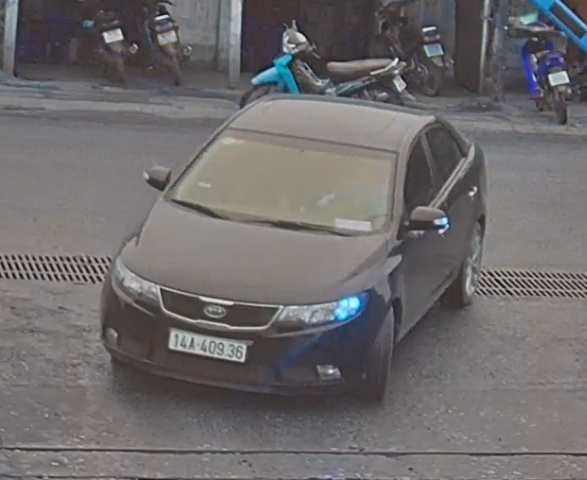vehicle plate: (167, 322, 251, 370)
